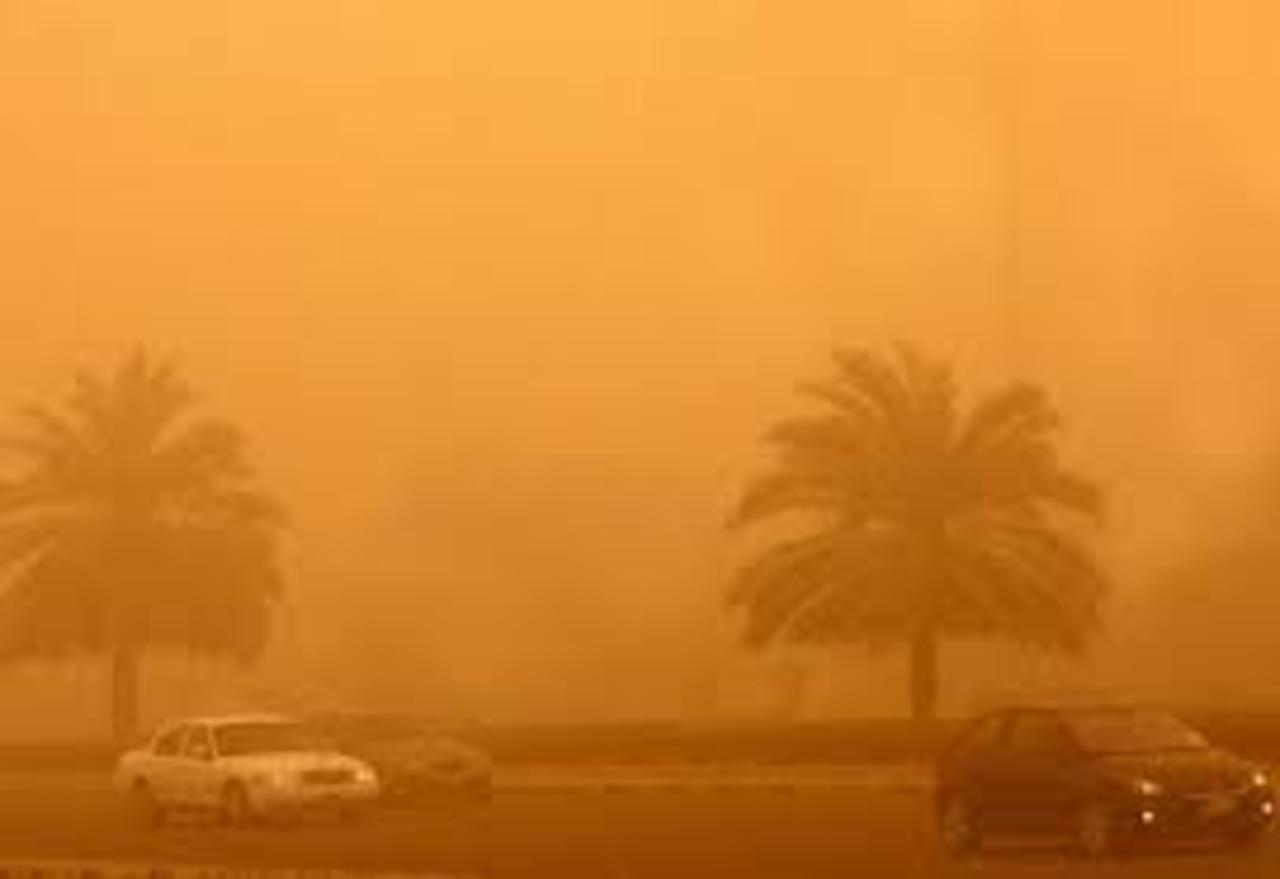car: (923, 700, 1269, 869), (115, 713, 376, 820), (315, 711, 491, 815)
